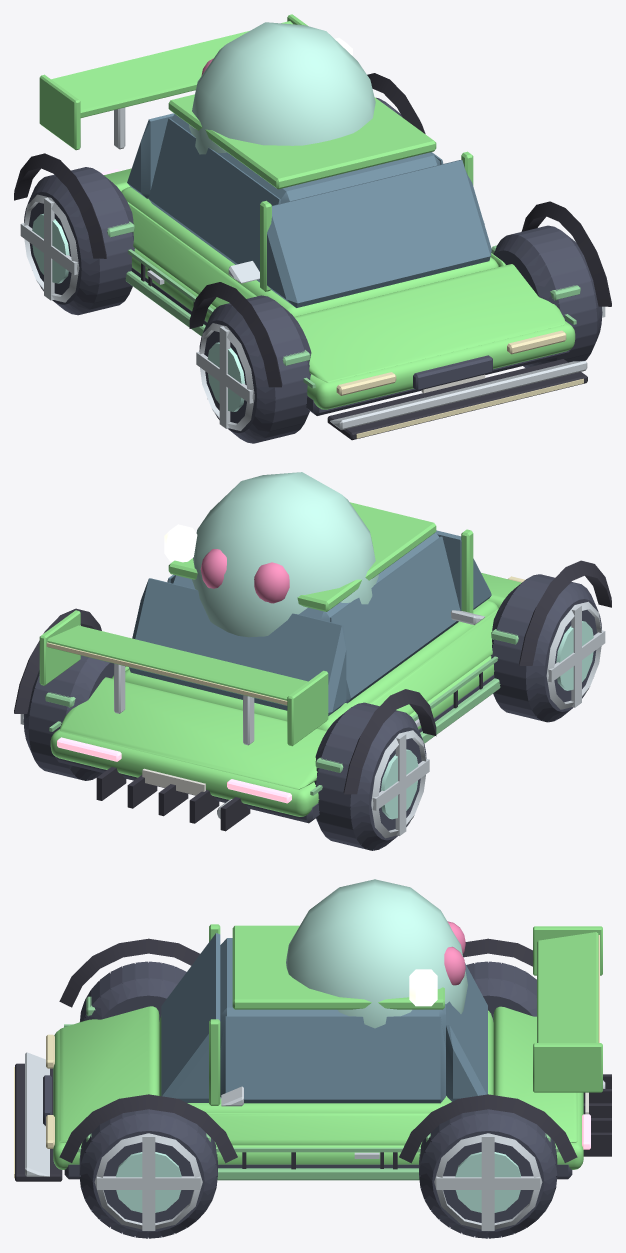
The model's file is pumpkin_pacer.fbx.
3 renders of one model, top to bottom at view 1: azimuth 30°, elevation 25°; view 2: azimuth 150°, elevation 25°; view 3: azimuth 270°, elevation 25°, orthographic. The views are drawn at different scales.
Visible parts, largest first — view 1: Body, Glass, Accent3, Trim, Wheel_FR, Wheel_RR, Wheel_FL, Metal, Accent2, Trim2, Light, Accent (+1 smaller); view 2: Body, Glass, Accent3, Trim, Wheel_RR, Wheel_FR, Metal, Wheel_RL, Accent, Metal2, Accent5, Light2 (+4 smaller); view 3: Body, Glass, Accent3, Trim, Metal, Wheel_RL, Wheel_FL, Metal2, Accent, Wheel_FR, Accent2, Wheel_RR (+4 smaller).
Part boxes in pixels (<box>): Body: <box>39,14,575,409</box>; Glass: <box>127,113,491,307</box>; Accent3: <box>189,22,375,154</box>; Trim: <box>14,73,611,440</box>; Wheel_FR: <box>199,295,311,443</box>; Wheel_RR: <box>24,167,134,315</box>; Wheel_FL: <box>493,225,602,367</box>; Metal: <box>20,107,605,430</box>; Accent2: <box>228,220,587,429</box>; Trim2: <box>131,267,570,415</box>; Light: <box>336,330,583,438</box>; Accent: <box>107,221,580,388</box>; Body: <box>39,502,521,816</box>; Glass: <box>129,530,491,715</box>; Accent3: <box>192,472,378,637</box>; Trim: <box>14,560,611,831</box>; Wheel_RR: <box>314,702,426,850</box>; Wheel_FR: <box>491,574,601,722</box>; Metal: <box>20,601,605,838</box>; Wheel_RL: <box>23,655,125,780</box>; Accent: <box>45,629,518,795</box>; Metal2: <box>380,621,593,819</box>; Accent5: <box>200,549,289,603</box>; Light2: <box>57,737,291,803</box>; Body: <box>53,924,602,1169</box>; Glass: <box>161,933,487,1103</box>; Accent3: <box>220,879,467,1098</box>; Trim: <box>15,938,611,1181</box>; Metal: <box>94,1080,605,1231</box>; Wheel_RL: <box>419,1109,557,1238</box>; Wheel_FL: <box>79,1109,217,1238</box>; Metal2: <box>116,1152,520,1212</box>; Accent: <box>64,996,559,1180</box>; Wheel_FR: <box>80,961,186,1021</box>; Accent2: <box>25,1052,243,1176</box>; Wheel_RR: <box>466,961,536,1021</box>.
Size of the model in its own units: 3.31 by 2.54 by 4.98.
